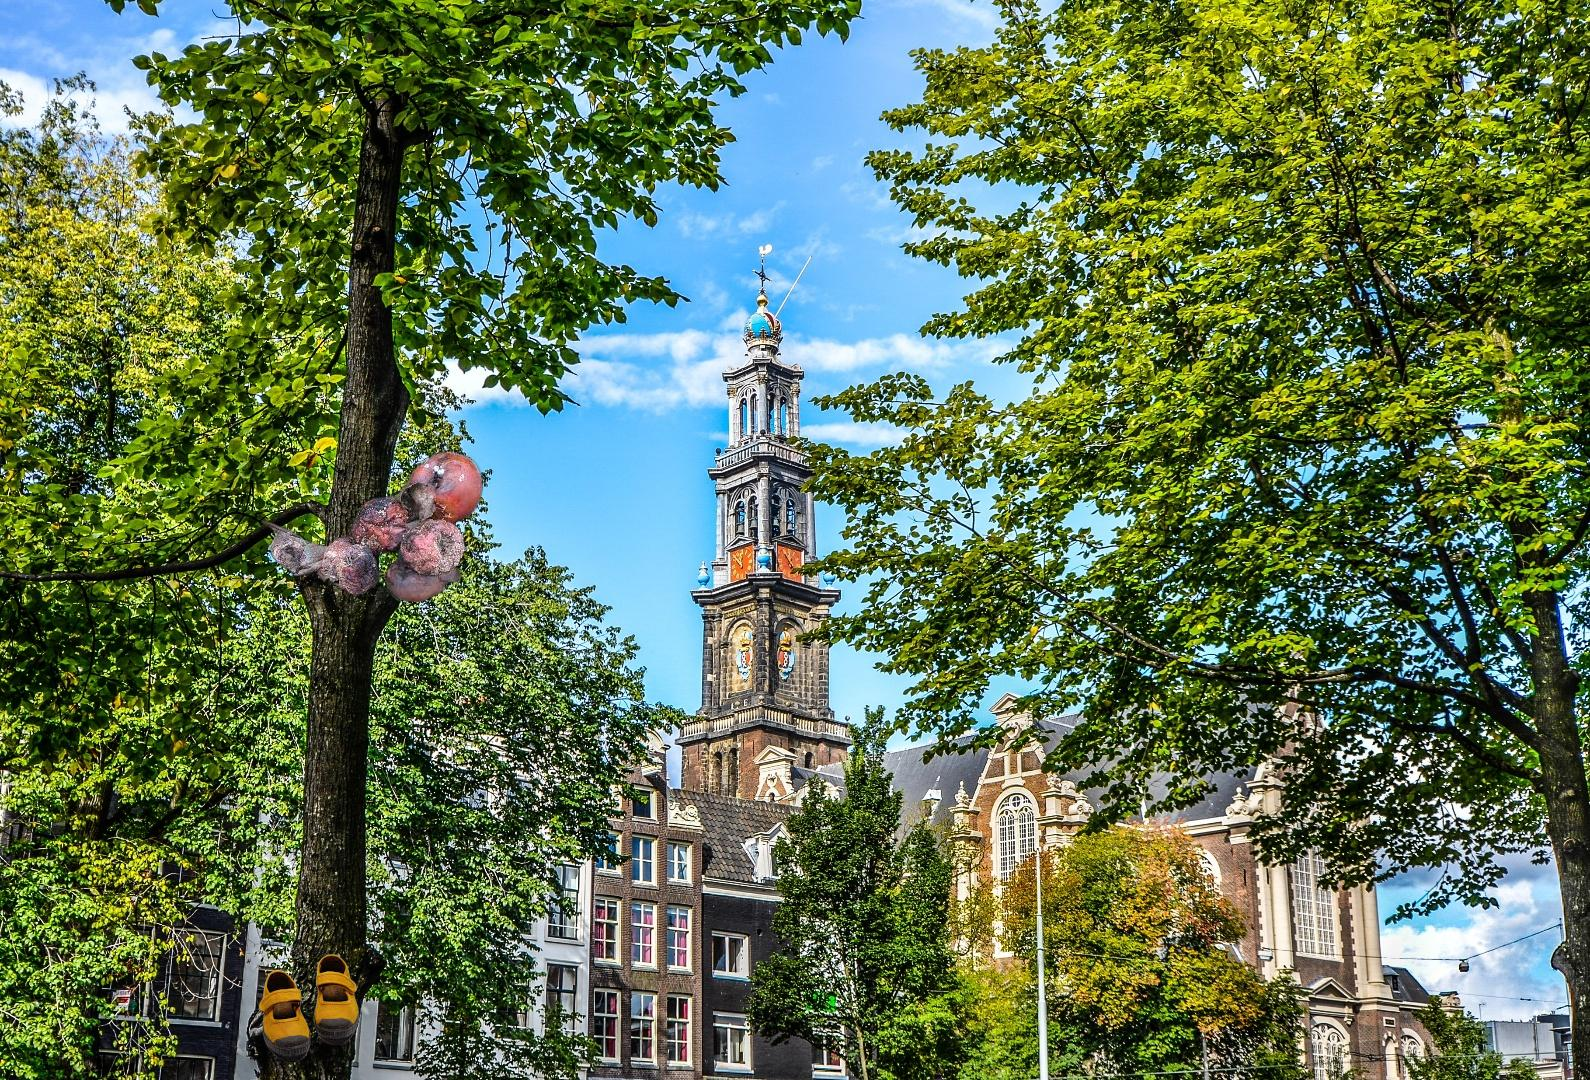biological: (245, 450, 487, 605)
shoes: (256, 951, 362, 1066)
